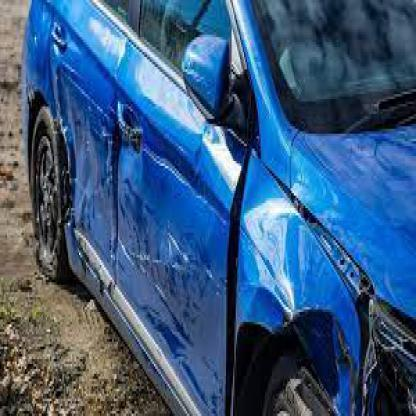dent: (238, 208, 296, 339), (63, 94, 106, 243)
